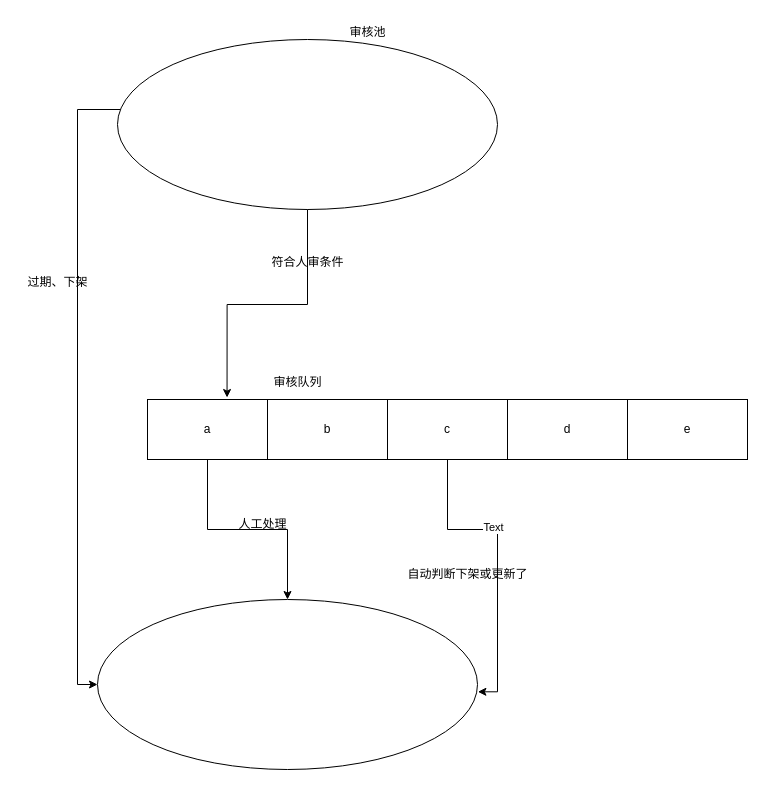
The diagram is 765 pixels wide and 787 high, and some of its shapes have lost their labels. Each missing label, with the centre of its shape:
a b.c d: the point at 307,124
审核结果: the point at 287,684
